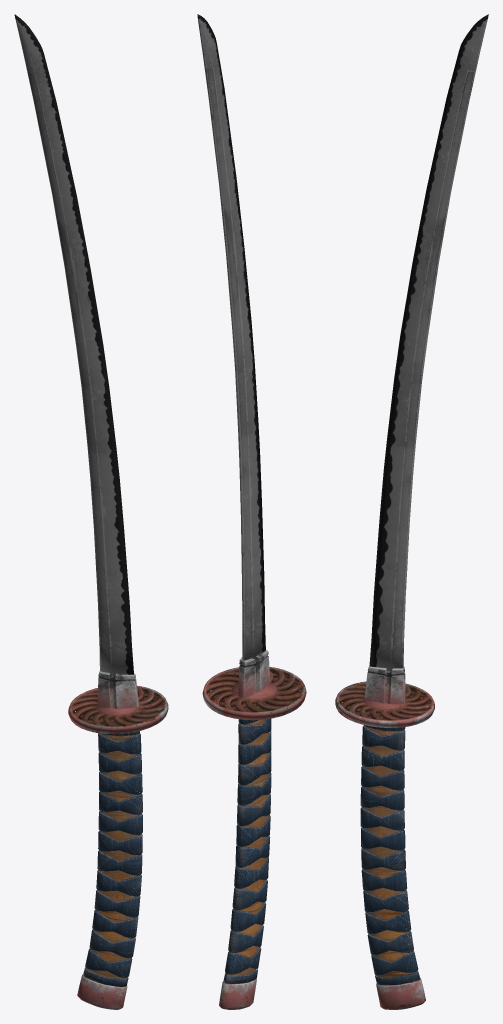
Rendered from katana.glb.
3 views of the same model, side by side, from view 1: azimuth 90°, elevation 25°; view 2: azimuth 150°, elevation 25°; view 3: azimuth 270°, elevation 25° (orthographic). The views are drawn at different scales.
Visible parts, largest first — view 1: Katana_jeans; view 2: Katana_jeans; view 3: Katana_jeans.
Part boxes in pixels (box(x1,y1,x2,y2)): Katana_jeans: box(14, 14, 168, 1009); Katana_jeans: box(197, 14, 306, 1009); Katana_jeans: box(335, 14, 488, 1009).
Size of the model in its own units: 0.2316 by 2.54 by 0.3558.
1 material, 1 textured.
